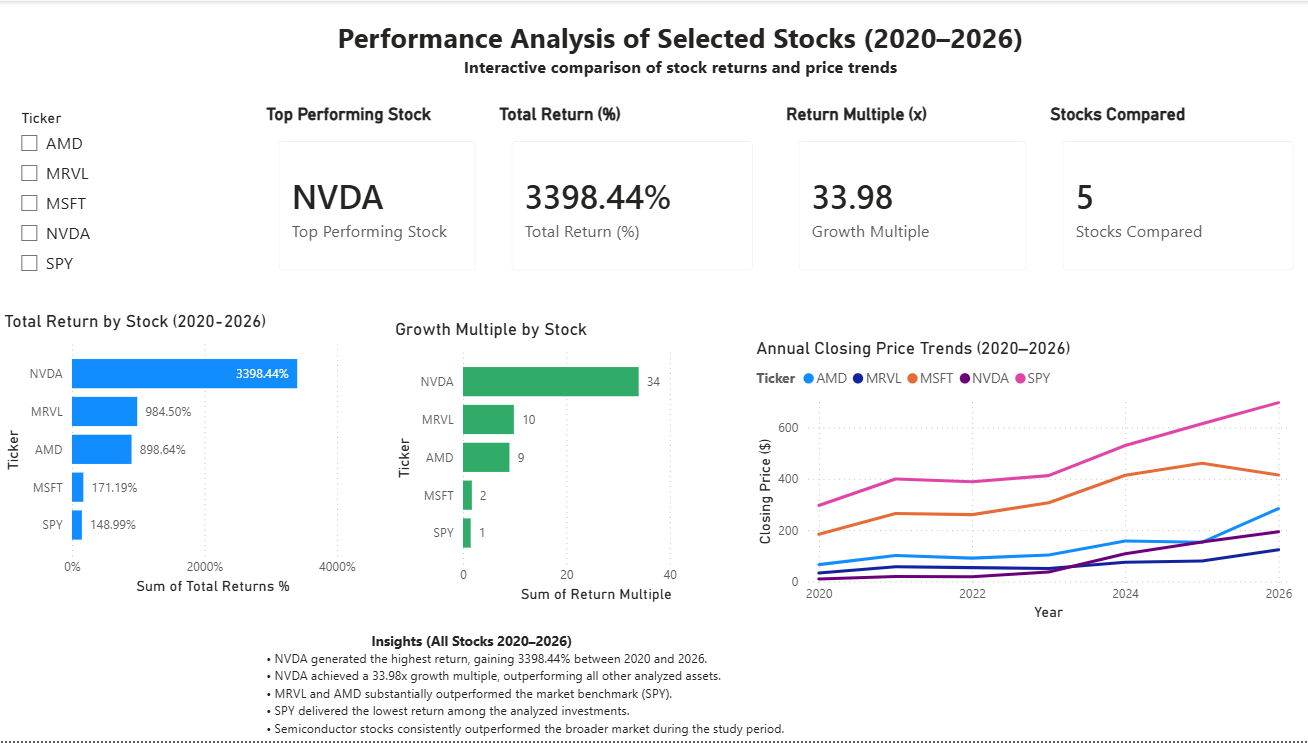

What the dashboard file says about the page in this screenshot:
{"tool":"powerbi","page":{"name":"Page 1","canvas":[1280,720],"ordinal":0},"visuals":[{"type":"clusteredBarChart","title":"Total Return by Stock (2020-2026)","fields":{"Category":["Stock Value Summary.Ticker"],"Y":["Sum(Stock Value Summary.Total Returns %)"]},"box":[2.9,301.5,368.6,280.1],"z":0},{"type":"clusteredBarChart","title":"Growth Multiple by Stock","fields":{"Category":["Stock Value Summary.Ticker"],"Y":["Sum(Stock Value Summary.Return Multiple)"]},"box":[383.2,309.3,342.4,280.1],"z":1000},{"type":"cardVisual","title":"Total Return (%)","fields":{"Data":["Stock Value Summary.Highest Return %"]},"box":[484.4,100.2,269.4,179.9],"z":1001},{"type":"cardVisual","title":"Return Multiple (x)","fields":{"Data":["Stock Value Summary.Highest Return"]},"box":[763.5,100.2,256.8,179.9],"z":1002},{"type":"cardVisual","title":"Stocks Compared","fields":{"Data":["Stock Value Summary.Total Stocks"]},"box":[1020.3,100.2,259.7,179.9],"z":1003},{"type":"cardVisual","title":"Top Performing Stock","fields":{"Data":["Stock Value Summary.Best Stock"]},"box":[257.8,100.2,226.6,179.9],"z":1004},{"type":"slicer","fields":{"Values":["Stock Value Summary.Ticker"]},"box":[11.7,100.2,235.4,179.9],"z":1005},{"type":"textbox","box":[93.4,11.7,1144.8,67.1],"z":1007},{"type":"textbox","box":[257.8,607.9,624.4,111.9],"z":1008},{"type":"lineChart","title":"Annual Closing Price Trends (2020–2026)","fields":{"Category":["Stocks Raw Data.Date.Variation.Date Hierarchy.Year"],"Y":["Avg(Stocks Raw Data.Close)"],"Series":["Stocks Raw Data.Ticker"]},"box":[734.3,327.8,531.1,280.1],"z":1009}]}

Visuals, with their boxes in screenshot pixels (x1, y1, x2, y2), scaled from the page's 1280x720 canvas onto the 1308x743 screenshot:
"Total Return by Stock (2020-2026)" clusteredBarChart: [x1=3, y1=311, x2=380, y2=600]
"Growth Multiple by Stock" clusteredBarChart: [x1=392, y1=319, x2=741, y2=608]
"Total Return (%)" cardVisual: [x1=495, y1=103, x2=770, y2=289]
"Return Multiple (x)" cardVisual: [x1=780, y1=103, x2=1043, y2=289]
"Stocks Compared" cardVisual: [x1=1043, y1=103, x2=1307, y2=289]
"Top Performing Stock" cardVisual: [x1=263, y1=103, x2=495, y2=289]
slicer - Stock Value Summary.Ticker: [x1=12, y1=103, x2=253, y2=289]
textbox: [x1=95, y1=12, x2=1265, y2=81]
textbox: [x1=263, y1=627, x2=901, y2=742]
"Annual Closing Price Trends (2020–2026)" lineChart: [x1=750, y1=338, x2=1293, y2=627]
